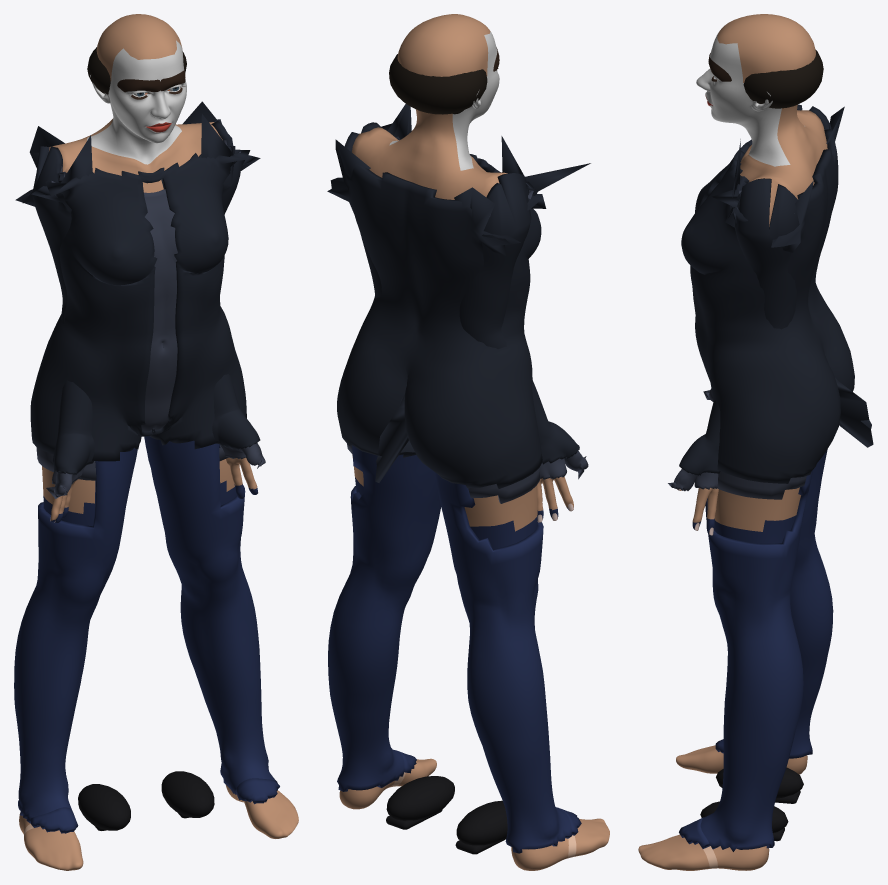
File: hm_ped_noah.obj
3 renders of one model, left to right at view 1: azimuth 30°, elevation 25°; view 2: azimuth 150°, elevation 25°; view 3: azimuth 270°, elevation 25°, orthographic. The views are drawn at different scales.
Parts seen in each view (by area): view 1: hm_ped_noah; view 2: hm_ped_noah; view 3: hm_ped_noah.
Part boxes in pixels (x1,y1,x2,y2): hm_ped_noah: (14, 14, 298, 870); hm_ped_noah: (327, 14, 609, 870); hm_ped_noah: (638, 14, 873, 870).
Bounding box in the file's own units: 0.5697 × 1.78 × 0.4724.
